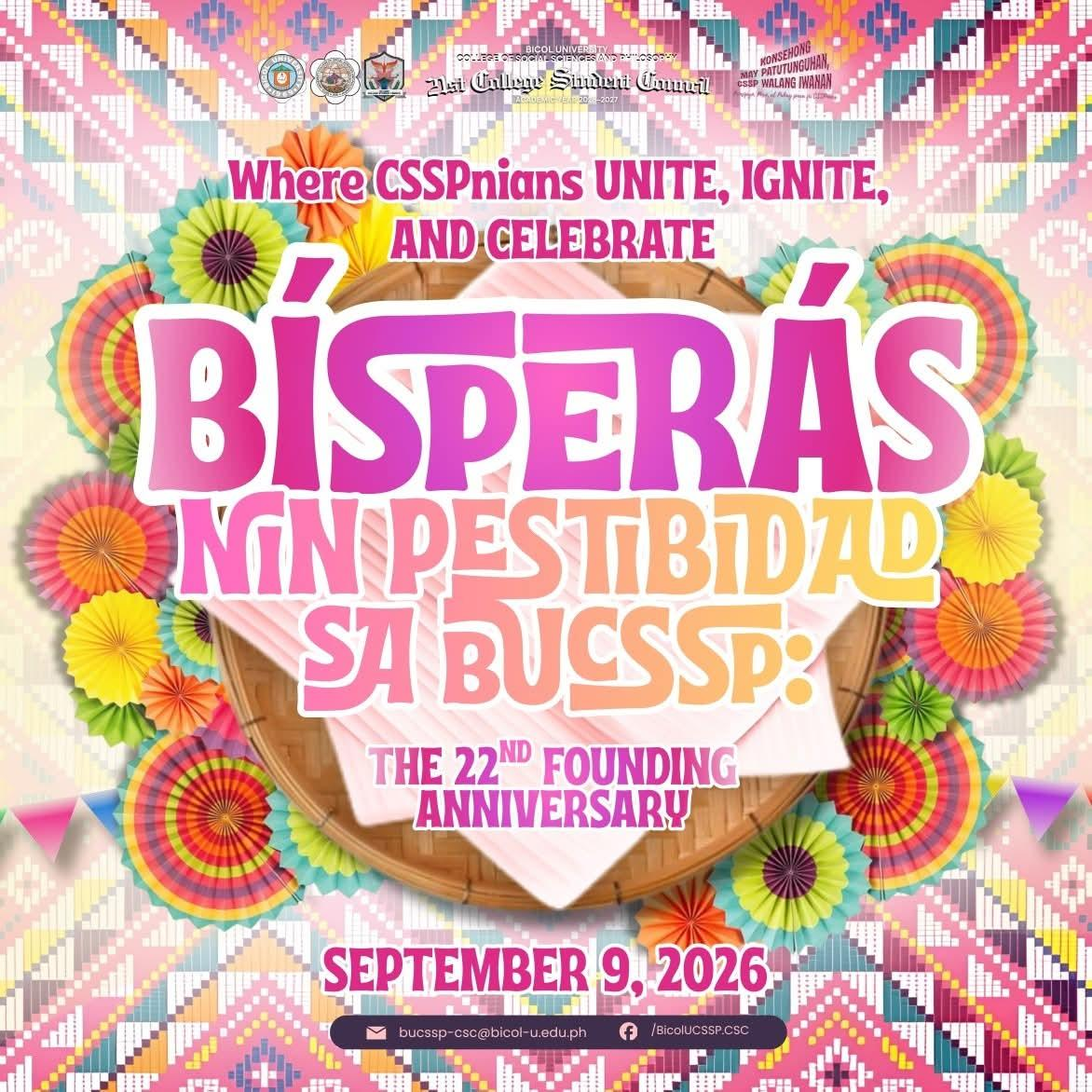embellishment: (0, 112, 426, 946), (629, 222, 1067, 967), (210, 613, 566, 909), (571, 771, 834, 903), (585, 262, 765, 312), (329, 258, 488, 311), (0, 787, 111, 861), (827, 600, 887, 736), (1013, 770, 1091, 842), (614, 1018, 642, 1044), (362, 1019, 392, 1042)
logo: (308, 43, 365, 108), (252, 44, 311, 106), (361, 45, 410, 109)
text: (119, 144, 999, 836), (315, 935, 780, 999), (416, 41, 720, 111), (731, 47, 845, 109), (394, 1020, 589, 1042), (646, 1024, 757, 1040)
underlay: (0, 577, 118, 810)
